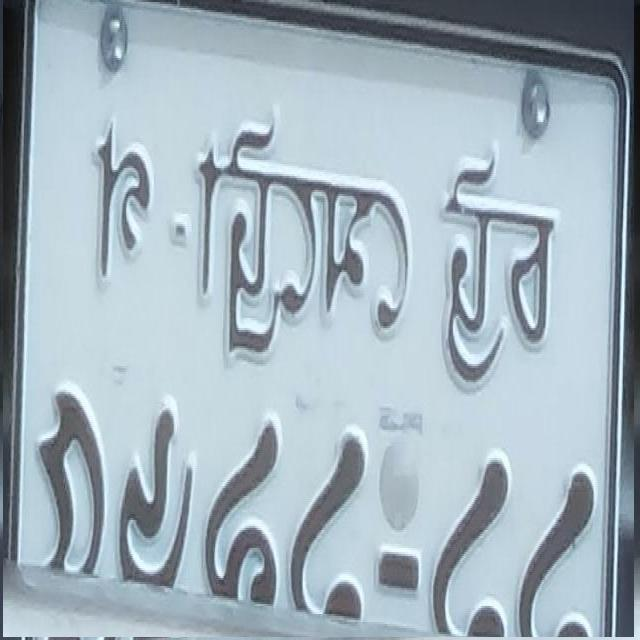cng: (224, 110, 442, 364)
numberplate: (3, 0, 634, 637)
